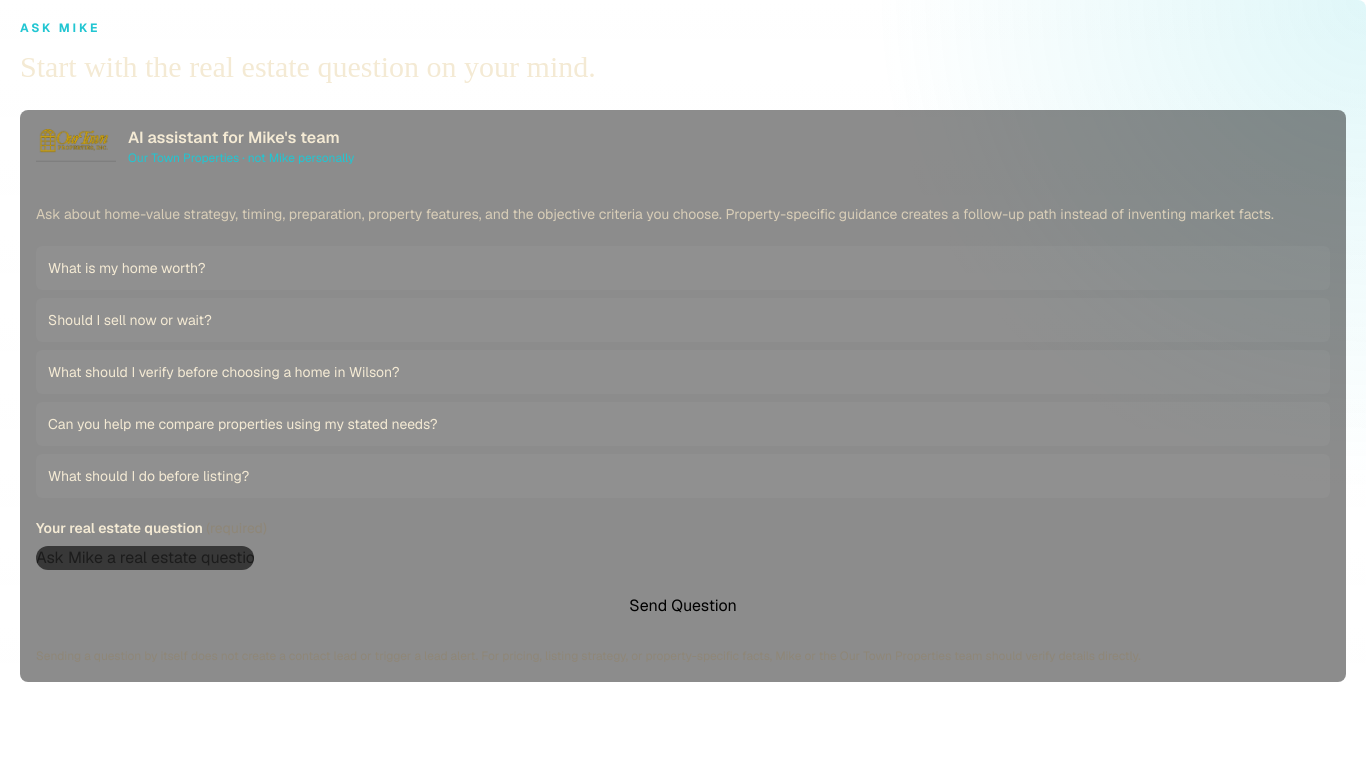
Scenario: Ask Mike conversion clarity and keyboard access › keeps a chat answer anonymous until the visitor explicitly requests follow-up
The width and height of the screenshot is (1366, 768).
Type "How should I prepare to sell?" into the field labelled "Your real estate question (required)". click: (145, 558)
box: top-left (36, 546), bottom-right (254, 570)
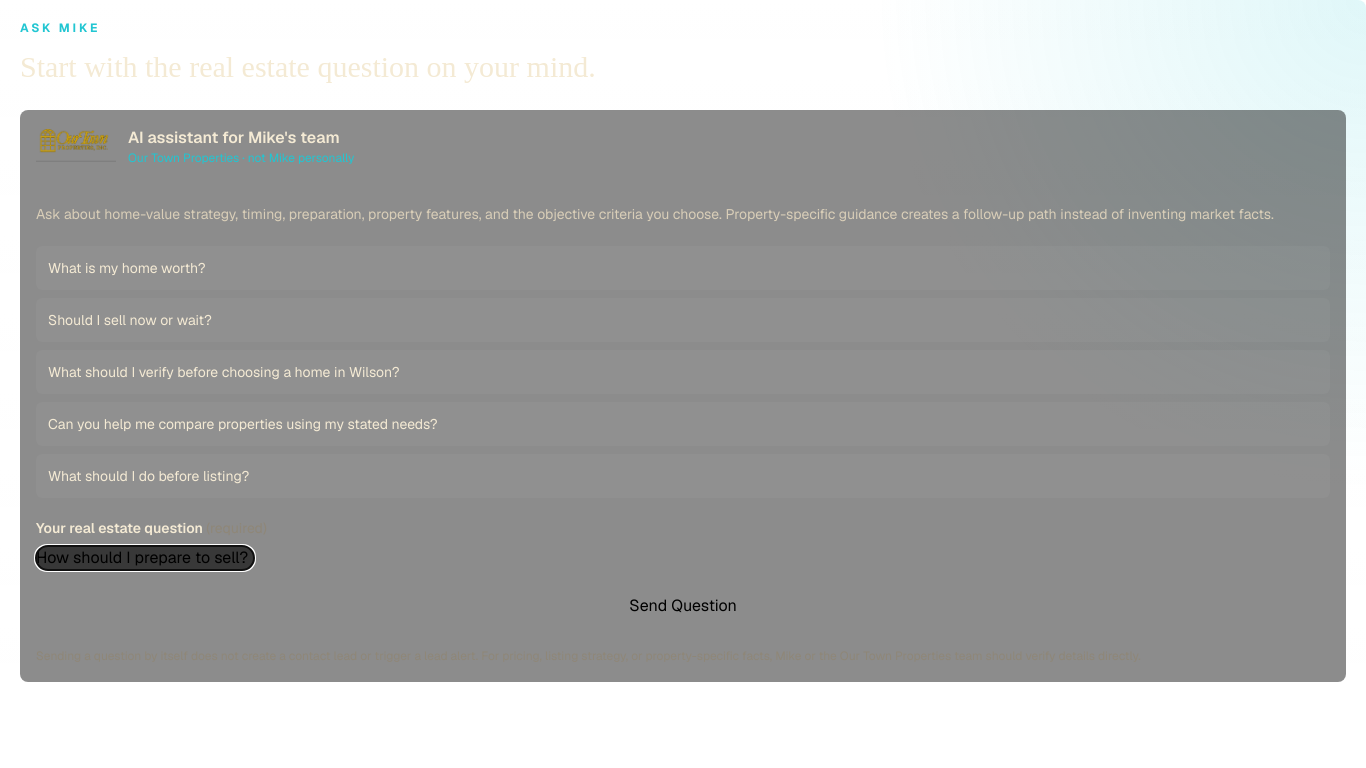
Click the button "Send Question". click: (683, 606)
box: top-left (36, 582), bottom-right (1330, 630)
(page scrolled)
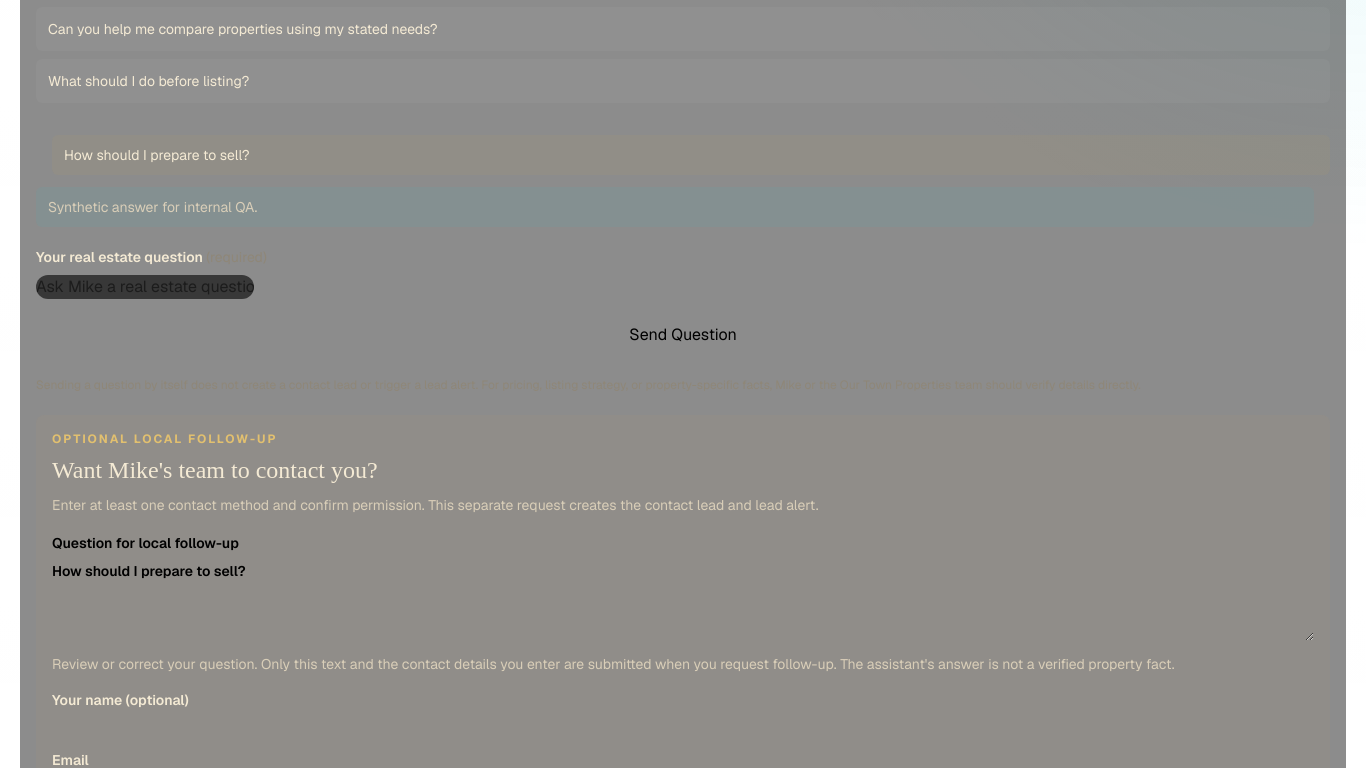
Now the text "Synthetic answer for internal QA." is shown, box top-left (48, 198), bottom-right (257, 216)
Now the heading "Want Mike's team to contact you?" is shown, box top-left (52, 456), bottom-right (378, 482)
